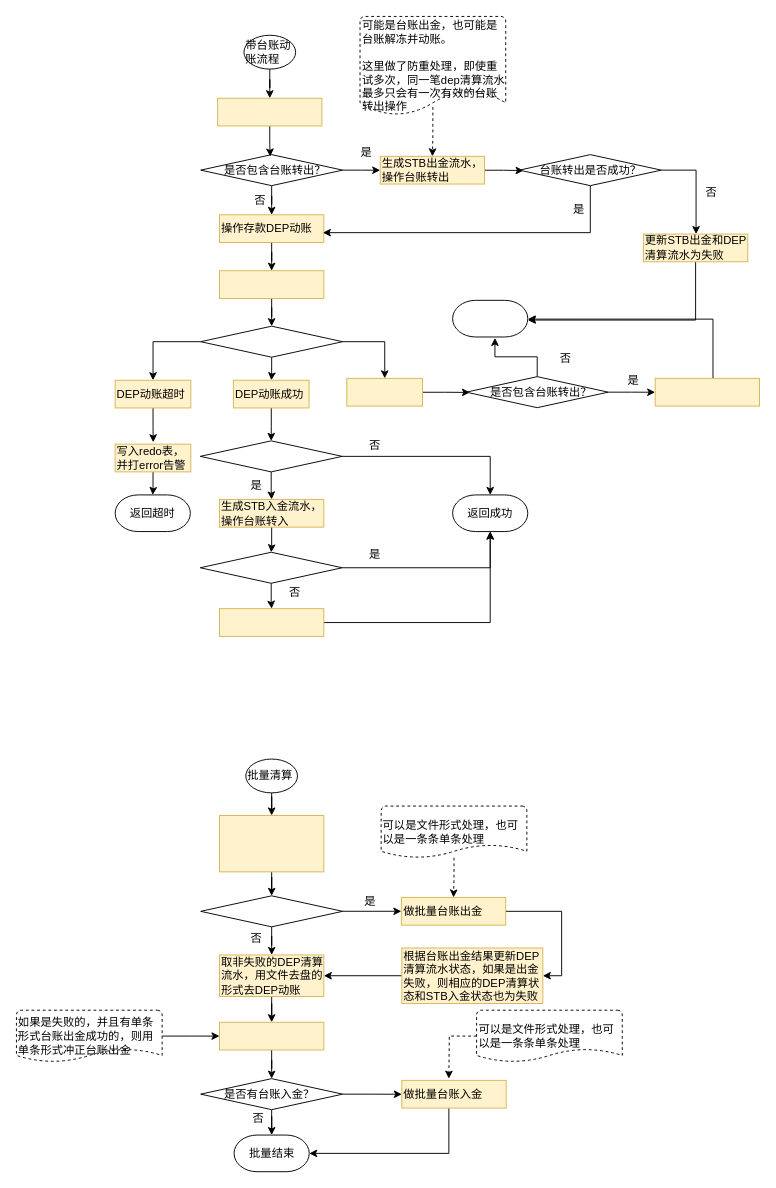
The diagram is 776 pixels wide and 1188 high, and some of its shapes have lost their labels. Each missing label, with the centre of its shape:
DEP动账失败: (x=384, y=391)
DEP回盘处理，更新DEP清算流水状态: (x=271, y=1035)
写入redo表，进行打error告警: (x=271, y=622)
判断DEP动账状态？: (x=271, y=341)
台账转入是否成功？: (x=270, y=567)
新生成STB出金冲正流水进行冲正: (x=707, y=391)
是否包含台账转入？: (x=270, y=456)
是否有台账出金？: (x=271, y=911)
更新DEP清算流水状态: (x=271, y=284)
根据清算关系，预先生成好所有的STB出金流水、DEP清算流水，STB入金流水: (x=271, y=843)
生成 / 加载 DEP清算流水: (x=269, y=111)
返回失败: (x=490, y=318)
